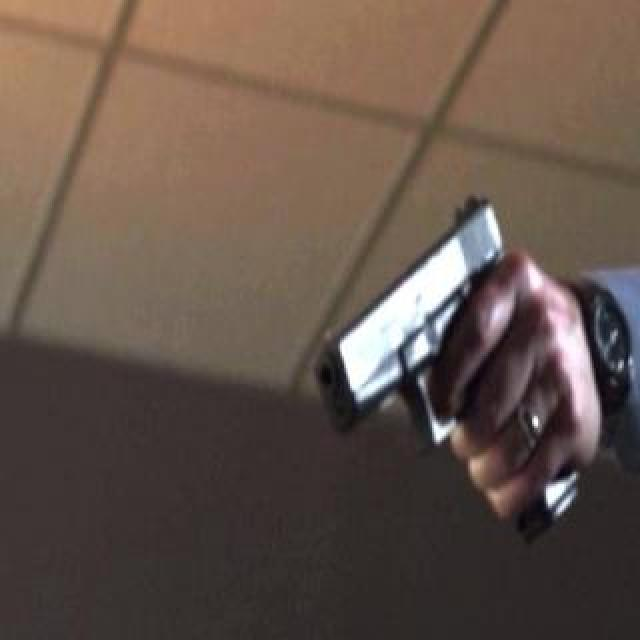Guns: (305, 161, 601, 541)
